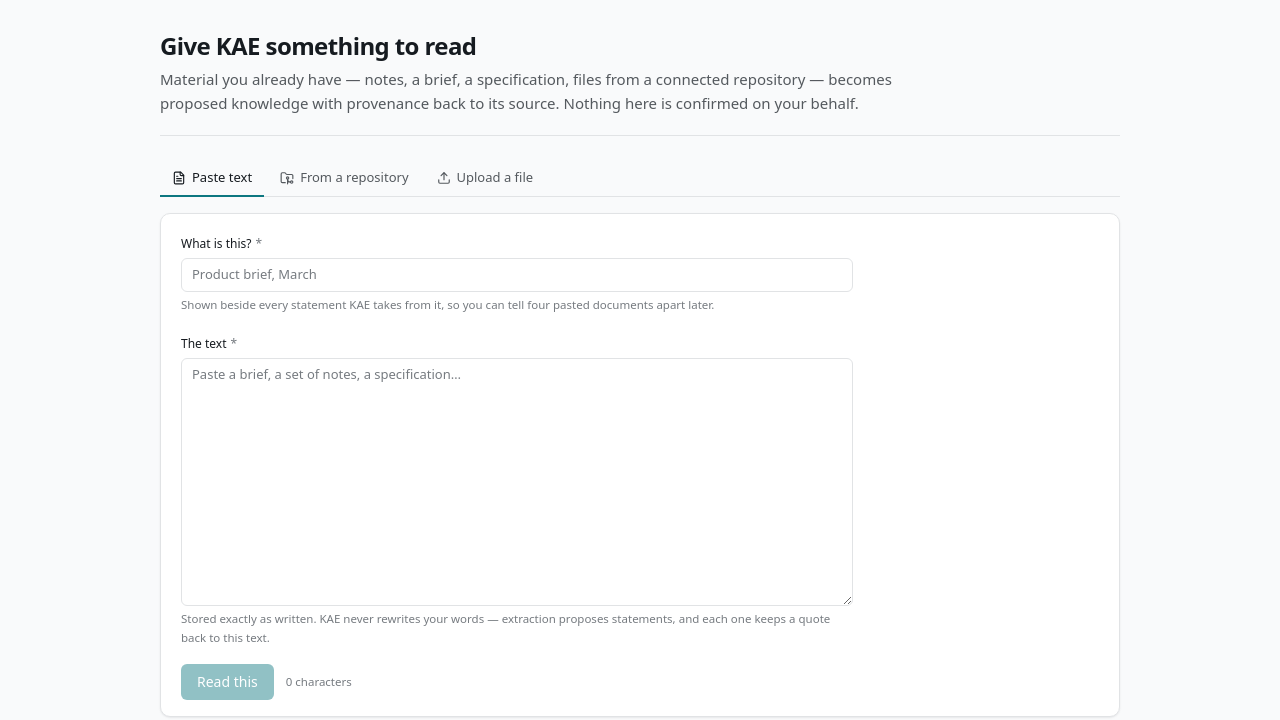
pasting a document › surfaces a refusal rather than looking like it worked
The width and height of the screenshot is (1280, 720).
Type "Brief" into the field labelled "What is this?*" at [517, 275], box [181,258,853,292]
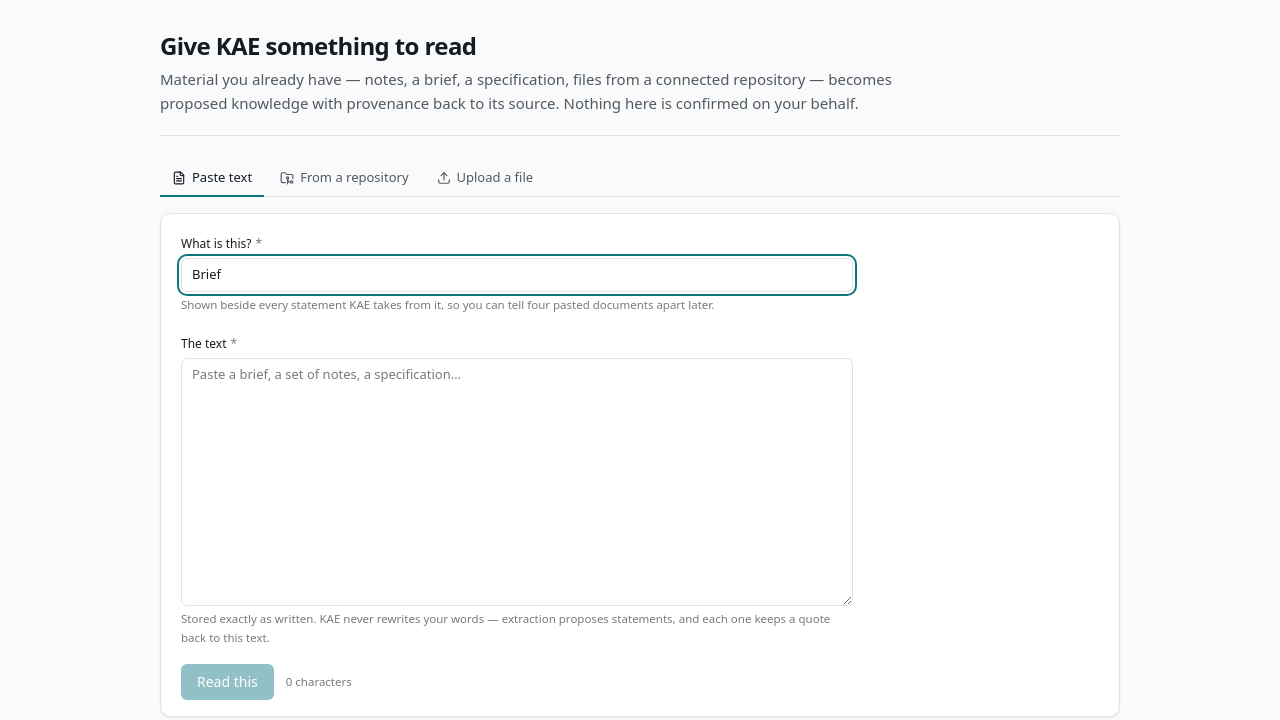
Type "Invoices go out weekly." into the text box labelled "The text*" at [517, 482], box [181,358,853,606]
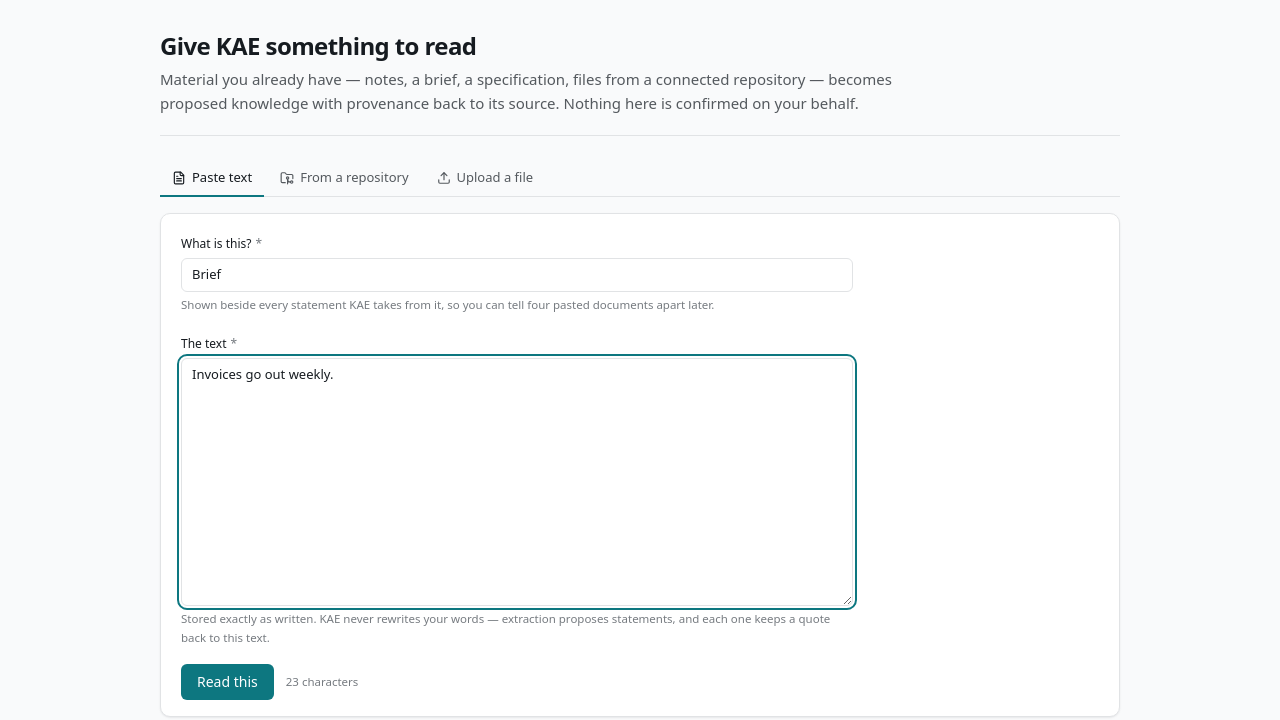
Click the button "Read this" at [227, 682], box [181,664,274,700]
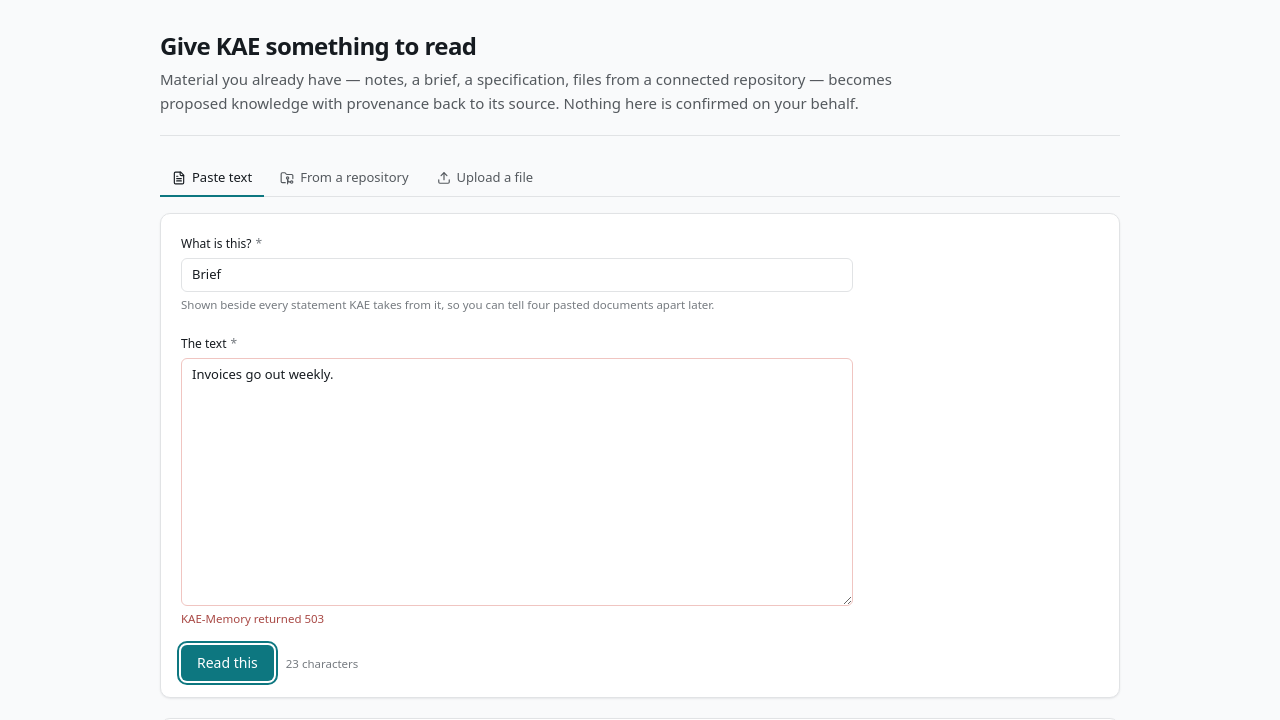
Expected: the text "KAE-Memory returned 503" is shown, [181,612,324,626]
